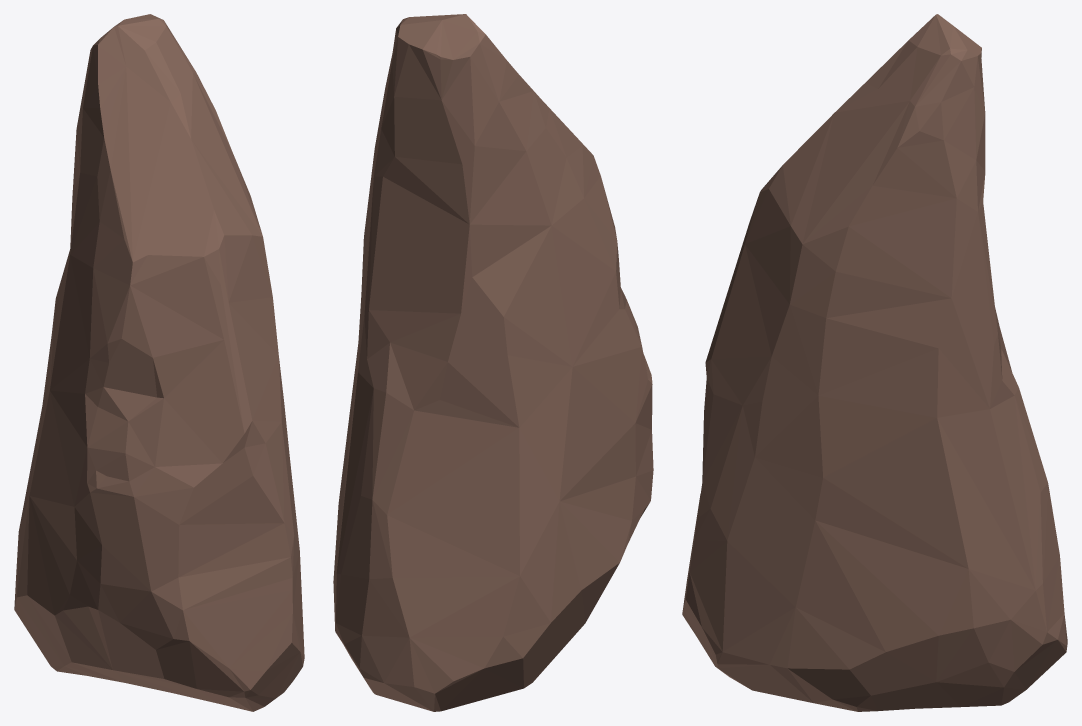
Rendered from zone2-s3.glb.
3 renders of one model, left to right at view 1: azimuth 30°, elevation 25°; view 2: azimuth 150°, elevation 25°; view 3: azimuth 270°, elevation 25°, orthographic. The views are drawn at different scales.
Parts seen in each view (by area): view 1: rock-sandstone-column-a.001; view 2: rock-sandstone-column-a.001; view 3: rock-sandstone-column-a.001.
Part boxes in pixels (x1,y1,x2,y2): rock-sandstone-column-a.001: (14, 14, 304, 711); rock-sandstone-column-a.001: (333, 14, 653, 711); rock-sandstone-column-a.001: (682, 14, 1067, 711).
Bounding box in the file's own units: 4.75 × 13.26 × 7.01.
